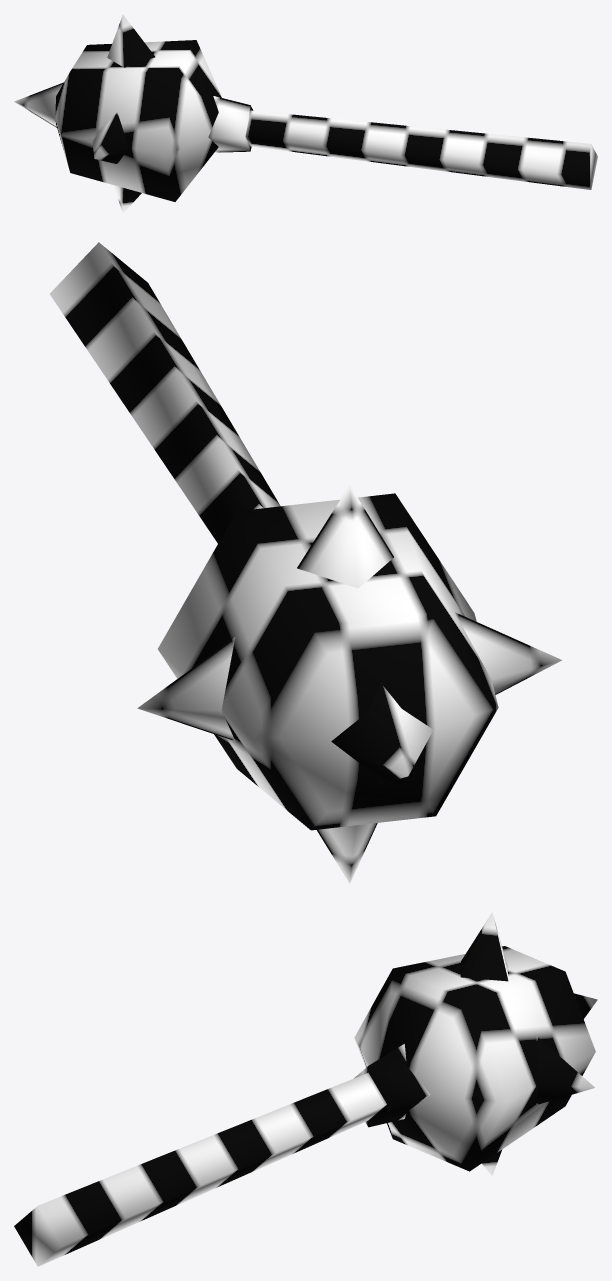
Rendered from initwehm6.dae.
3 views of the same model, one above another, from view 1: azimuth 30°, elevation 25°; view 2: azimuth 150°, elevation 25°; view 3: azimuth 270°, elevation 25° (orthographic). The views are drawn at different scales.
Visible parts, largest first — view 1: weapon; view 2: weapon; view 3: weapon.
Part boxes in pixels (x1,y1,x2,y2): weapon: (14,15,597,213); weapon: (50,242,561,883); weapon: (14,912,597,1266).
Bounding box in the file's own units: 1.95 × 1.95 × 0.9731.
Materials: 1 (1 with a texture image).
